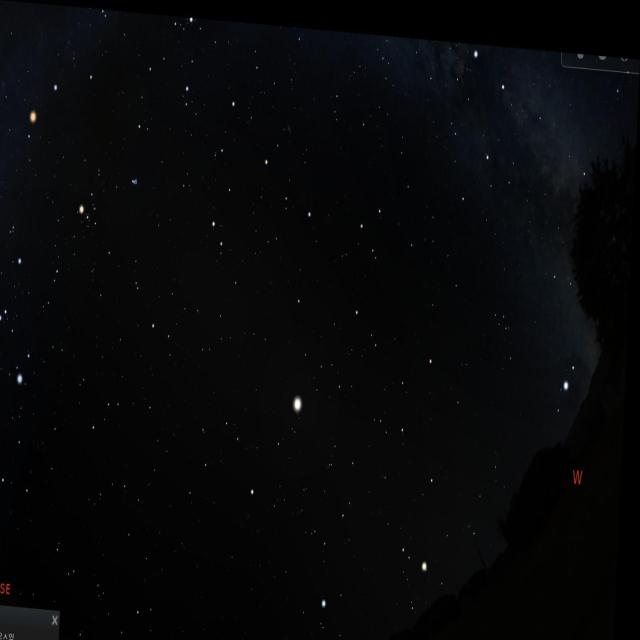cygnus: (467, 35, 599, 174)
orion: (0, 220, 39, 403)
pleiades: (128, 162, 142, 189)
taurus: (72, 150, 148, 268)
